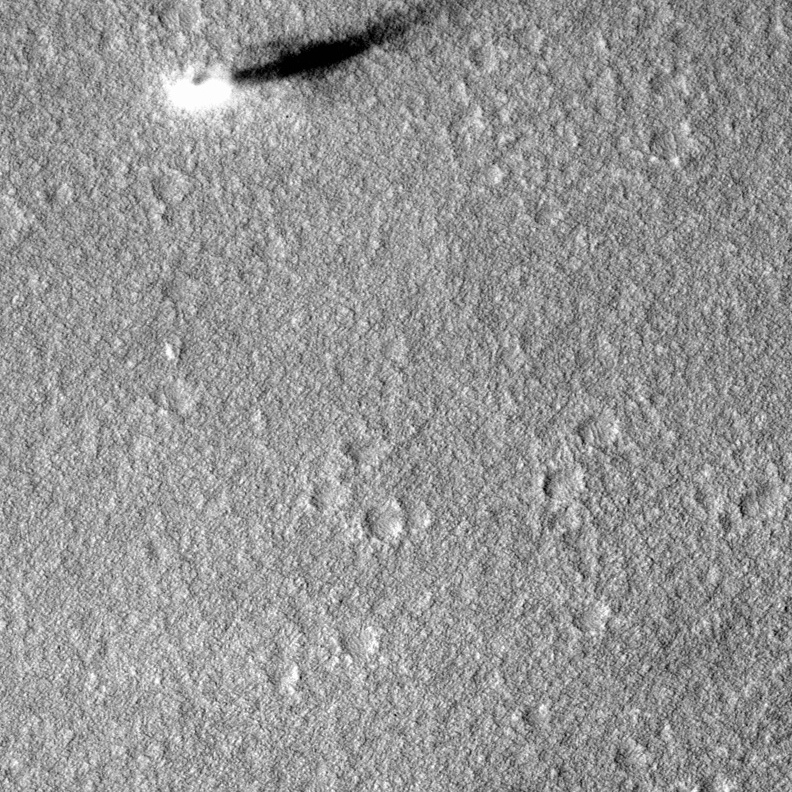dust_devil: (158, 0, 521, 116)
